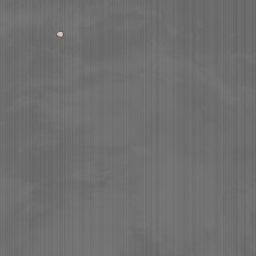Target: (55, 29, 64, 39)
